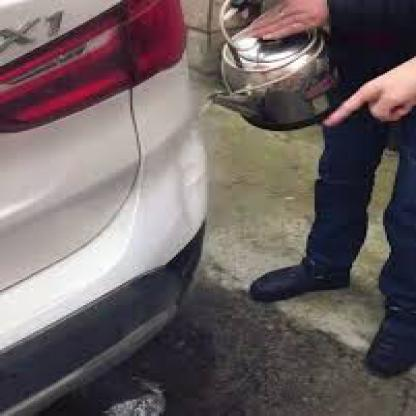dent: (164, 120, 212, 221)
